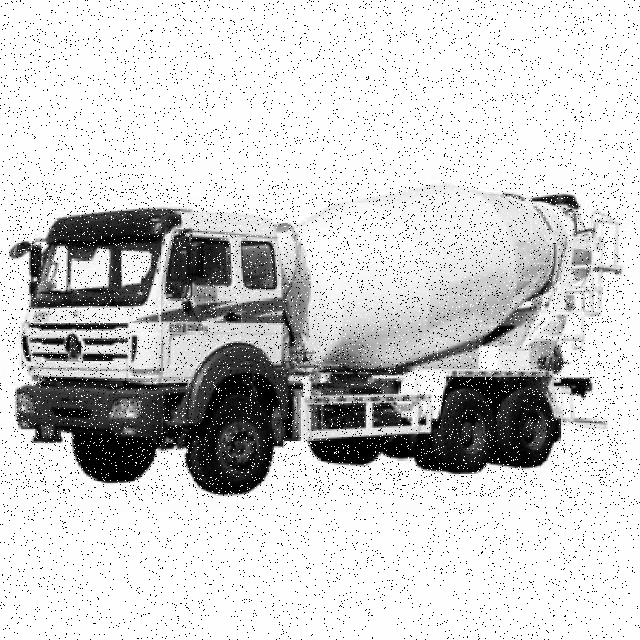Concrete Mixer: (10, 183, 624, 498)
